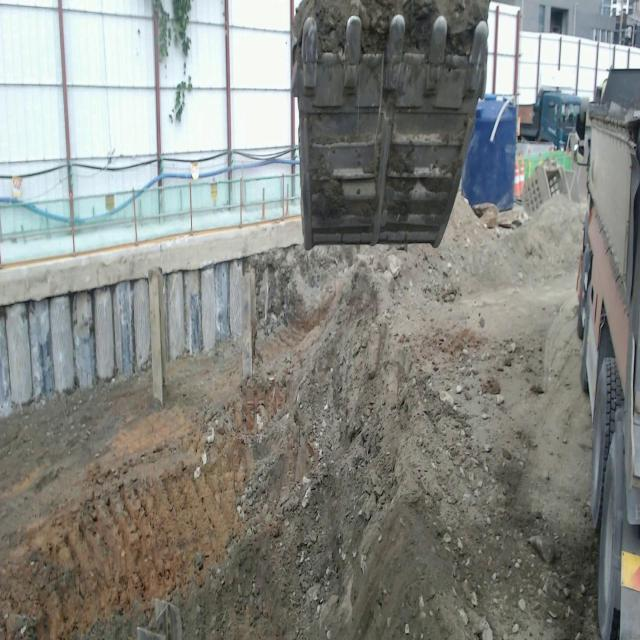red-sand: (0, 267, 451, 639)
